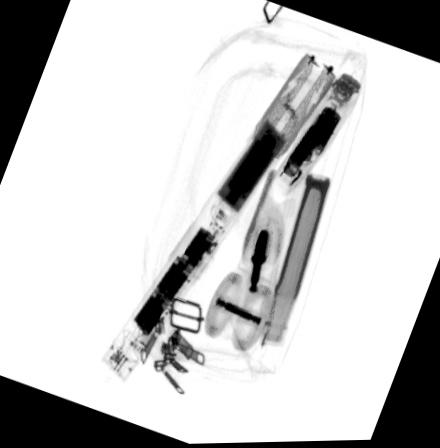Baton: (98, 53, 336, 383)
